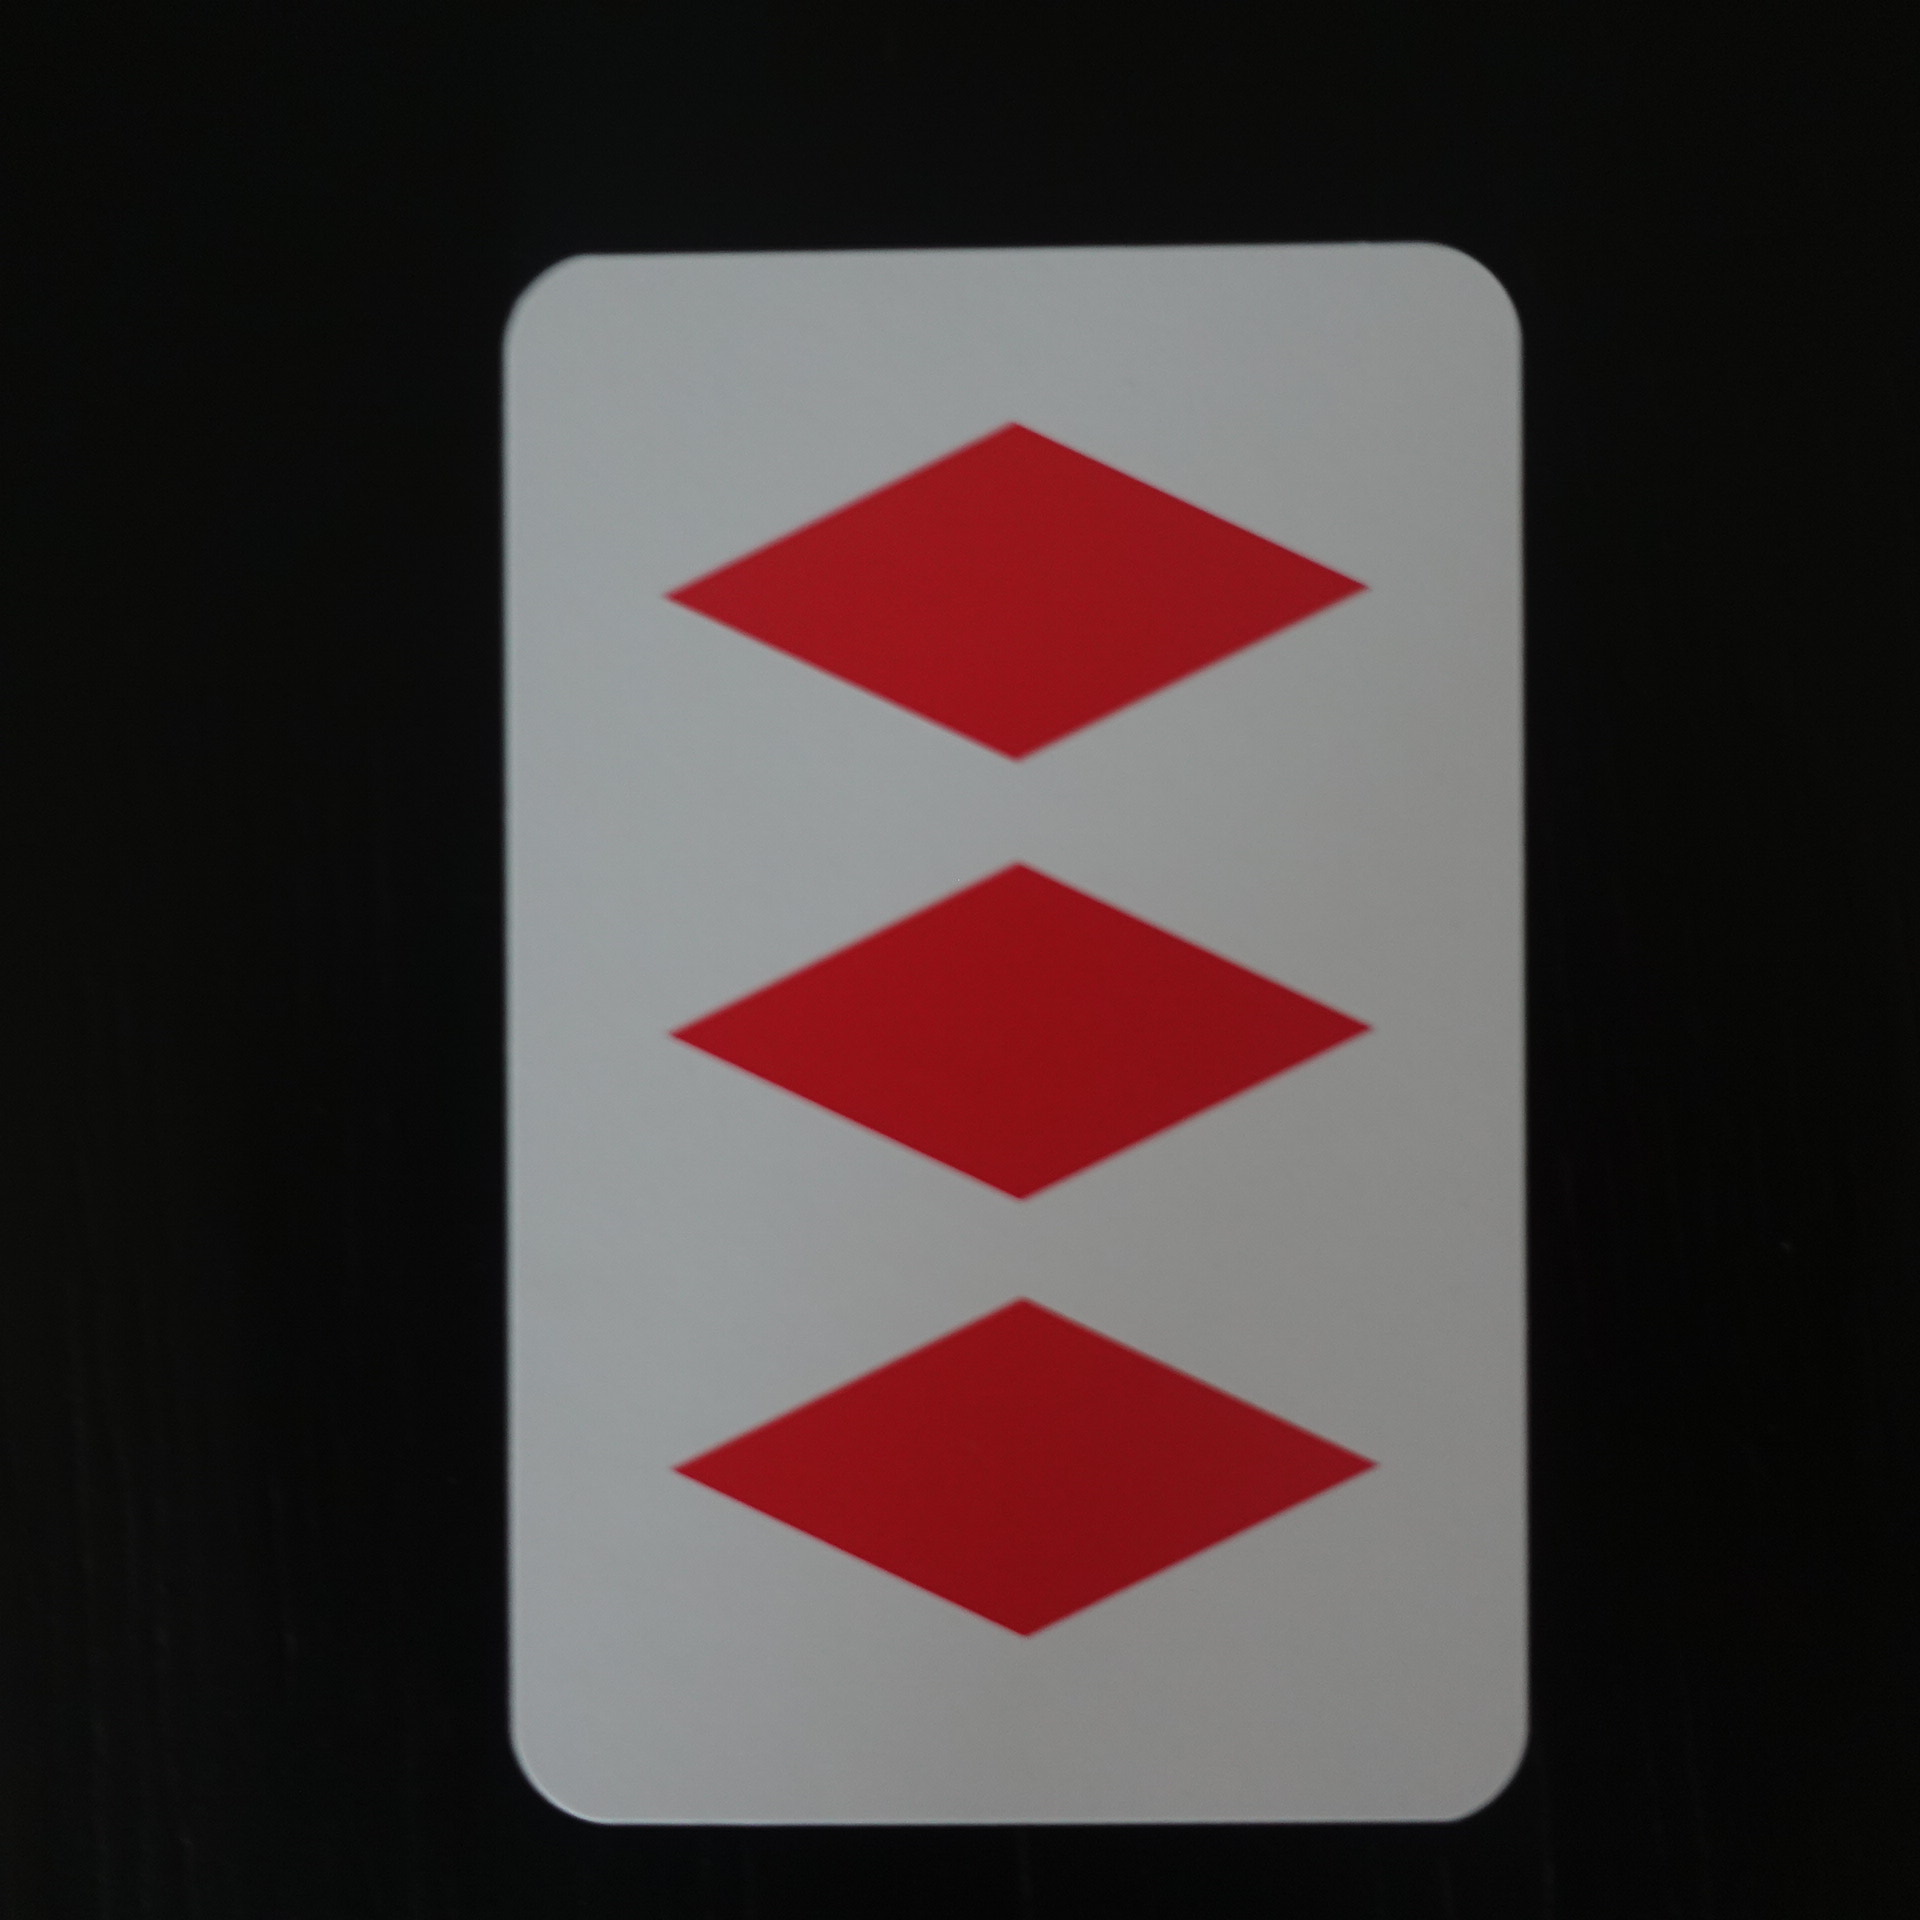c-2-f-d-r: (475, 227, 1554, 1862)
